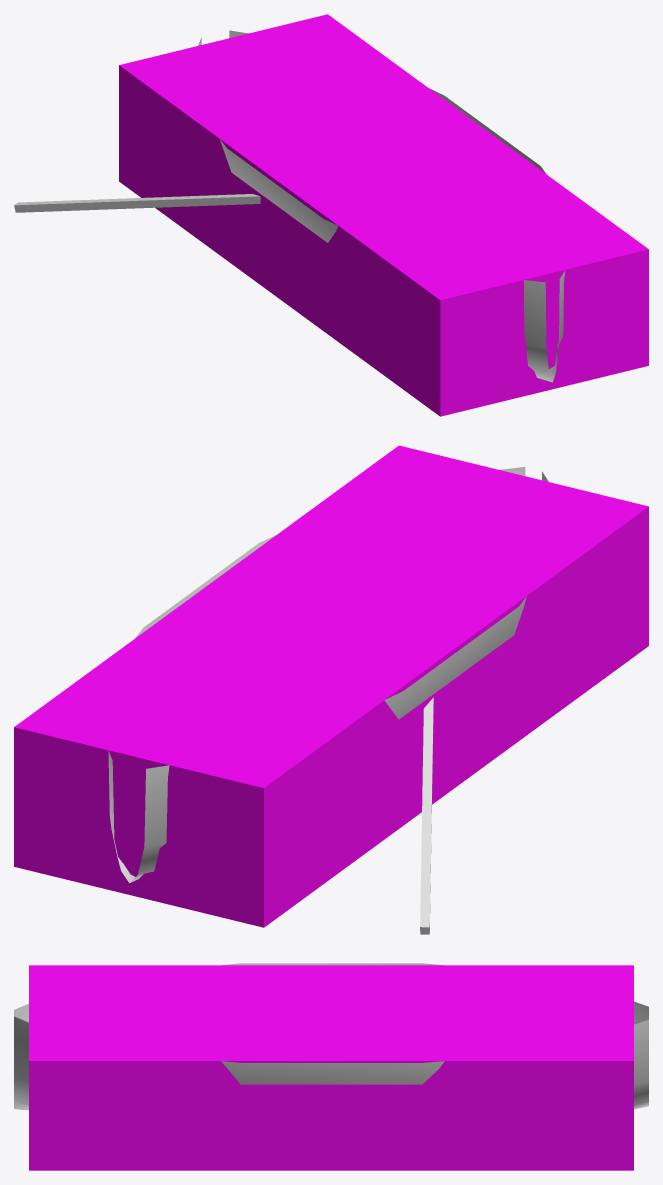
Rendered from rowboat.glb.
The picture shows the model from 3 angles, top to bottom: view 1: azimuth 30°, elevation 25°; view 2: azimuth 150°, elevation 25°; view 3: azimuth 270°, elevation 25°; orthographic projection. The views are drawn at different scales.
Parts seen in each view (by area): view 1: rowboat_hull, rowboat; view 2: rowboat_hull, rowboat; view 3: rowboat_hull, rowboat.
Part boxes in pixels (bbox=[...]): rowboat_hull: bbox=[119, 14, 648, 416]; rowboat: bbox=[14, 30, 565, 382]; rowboat_hull: bbox=[14, 445, 648, 927]; rowboat: bbox=[108, 467, 548, 934]; rowboat_hull: bbox=[29, 965, 633, 1170]; rowboat: bbox=[14, 963, 648, 1110].
Size of the model in its own units: 2.4 by 0.8 by 4.2.
